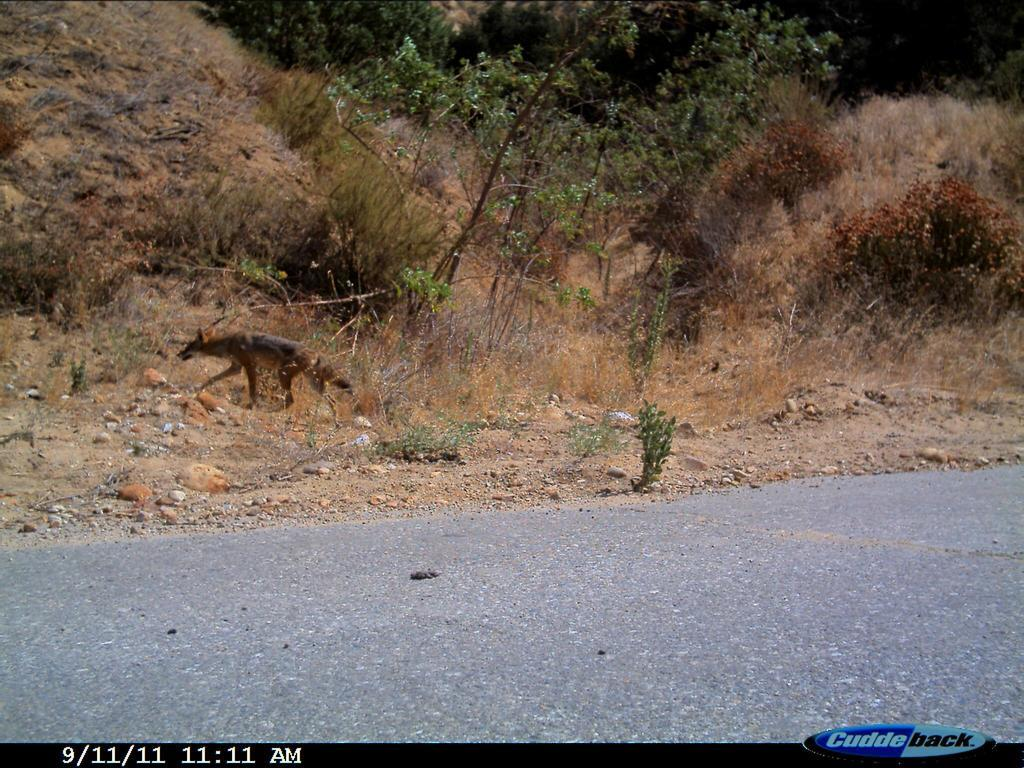coyote: (171, 319, 368, 427)
